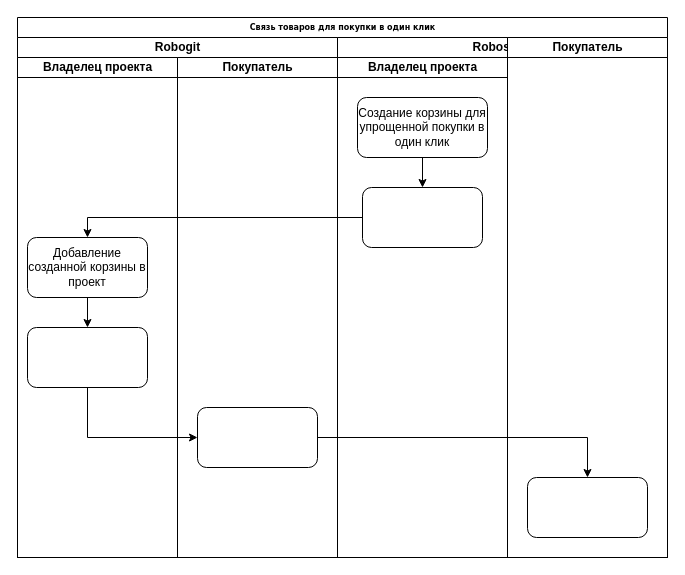
The diagram is 685 pixels wide and 575 high, and some of its shapes have lost their labels. Here are the shapes that lost their labels. From the top down, the box of each, then its label:
(362, 186, 482, 248): Сохранение корзины
(26, 326, 148, 388): Преобразование корзины в список
(196, 406, 318, 468): Выбор необходимых товаров.
(526, 476, 648, 538): Оформление заказа
